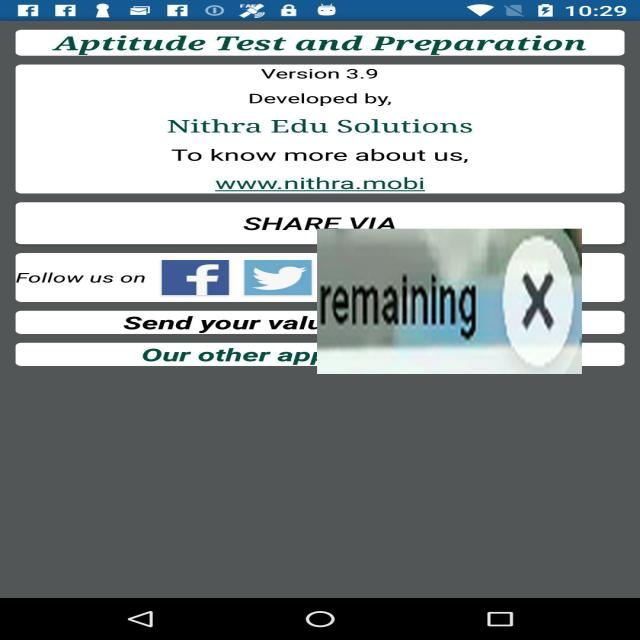misdirection: (317, 229, 582, 374)
